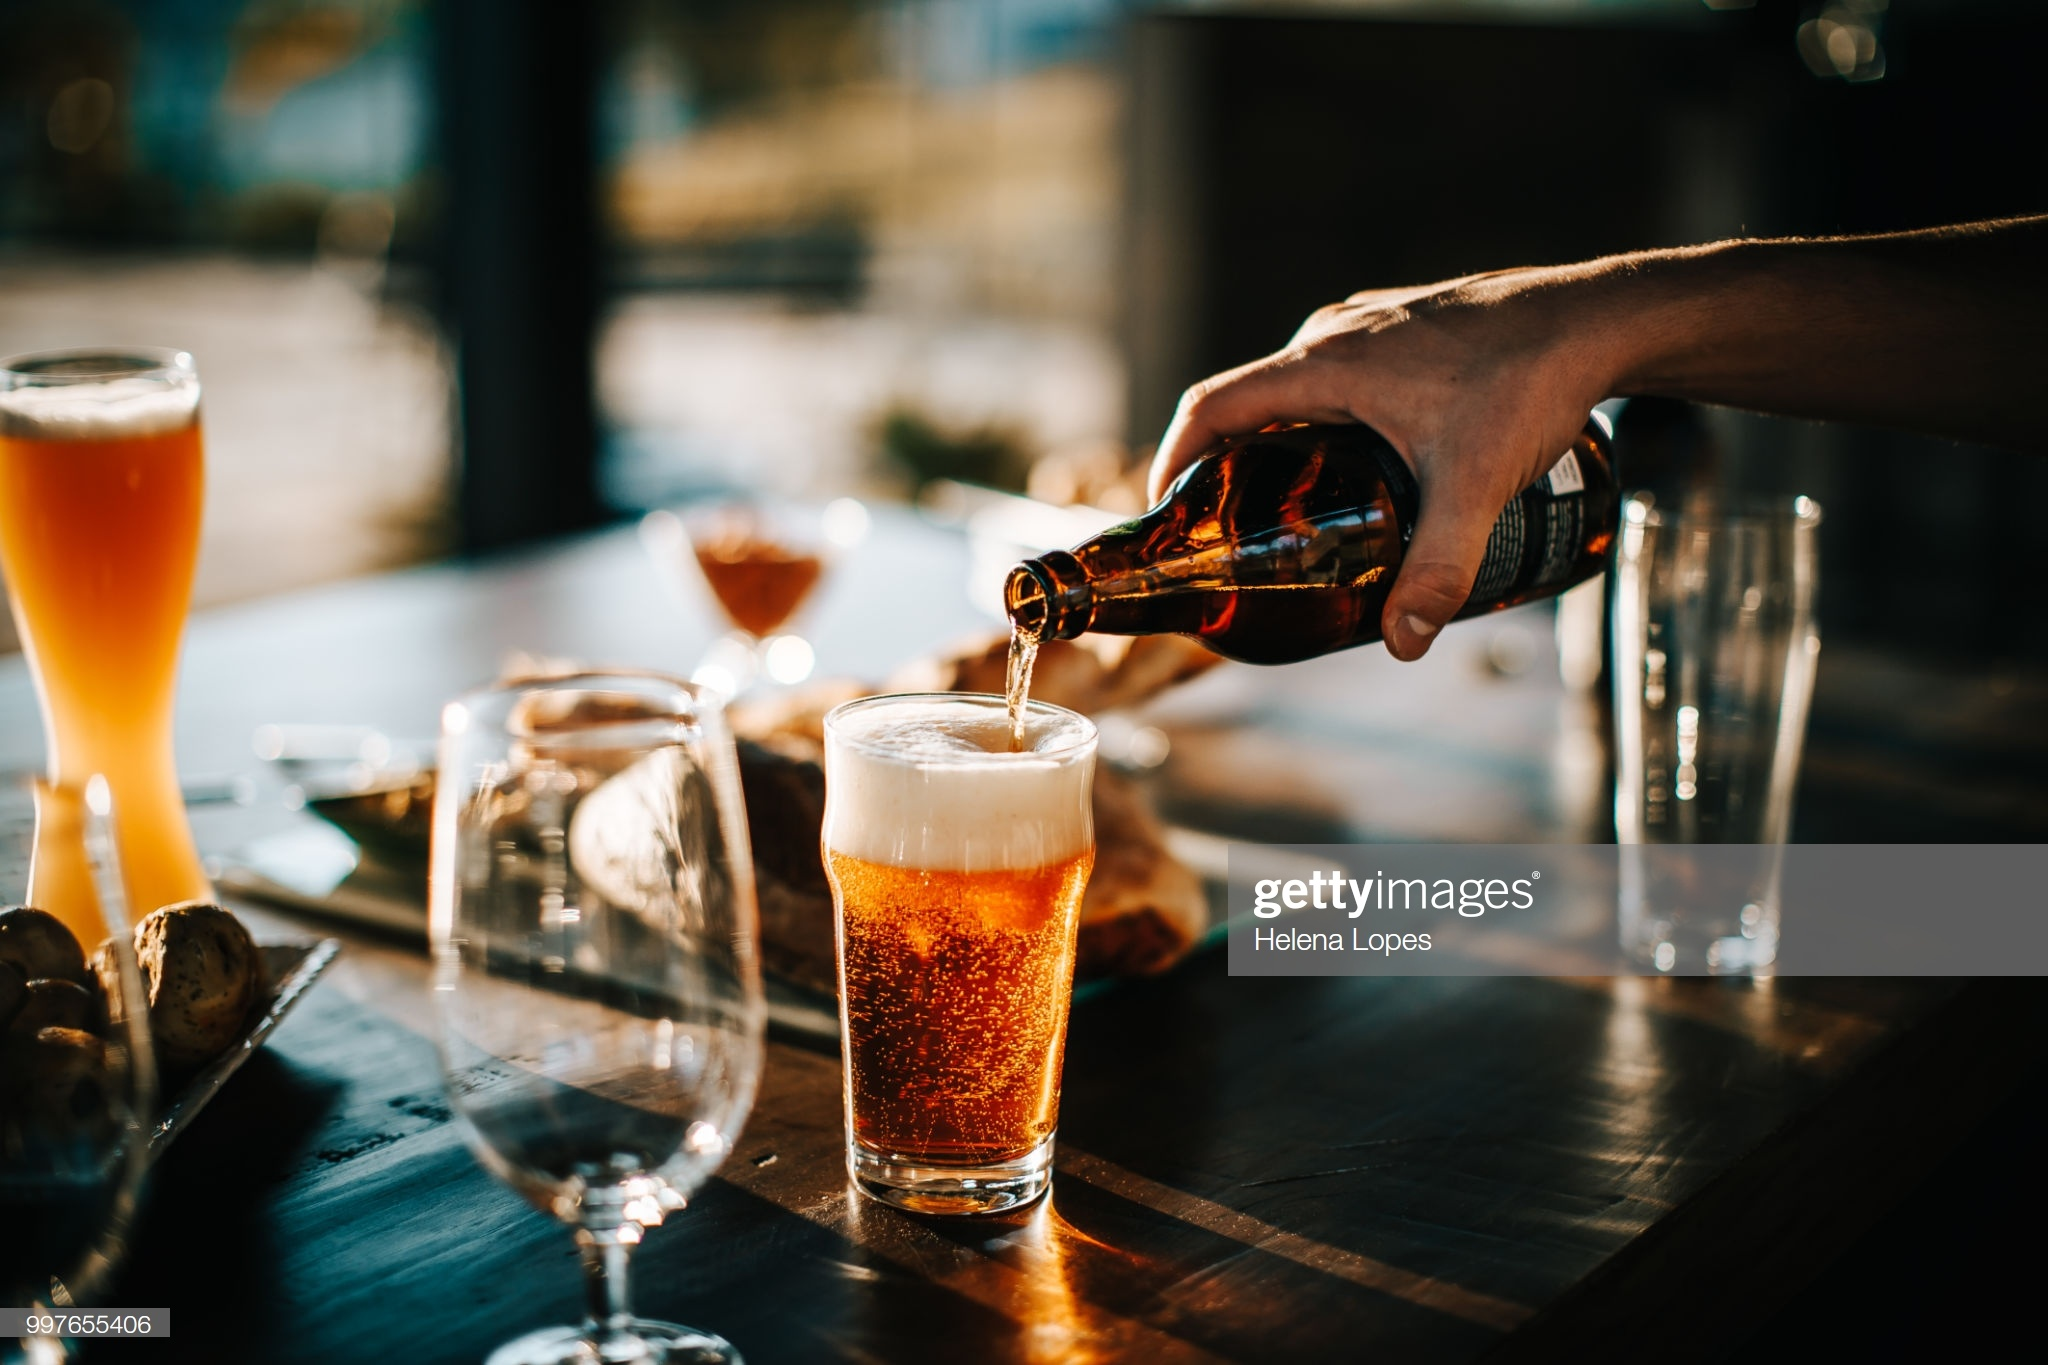glassBeer: (825, 692, 1107, 1210), (2, 347, 209, 788)
